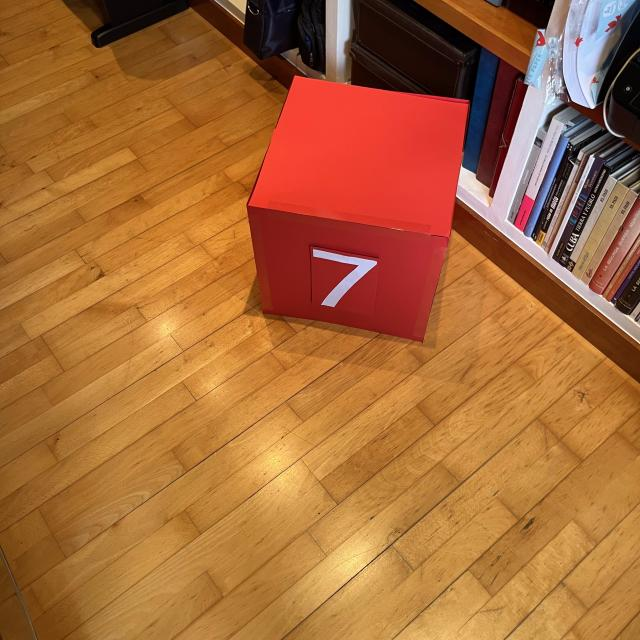box: (245, 72, 471, 345)
